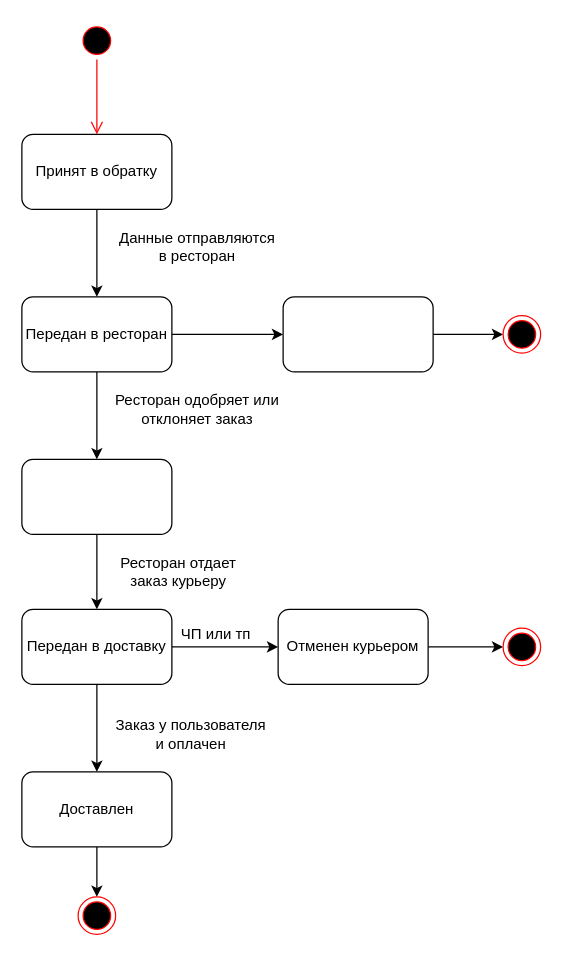
Image size: 563x956. Some labels were removed from this diagram. The box of each missing label's shape, as (x1, y1, x2, y2) in pixels:
Готовится: (21, 458, 172, 534)
Отменен со стороны ресторана: (282, 296, 433, 372)
